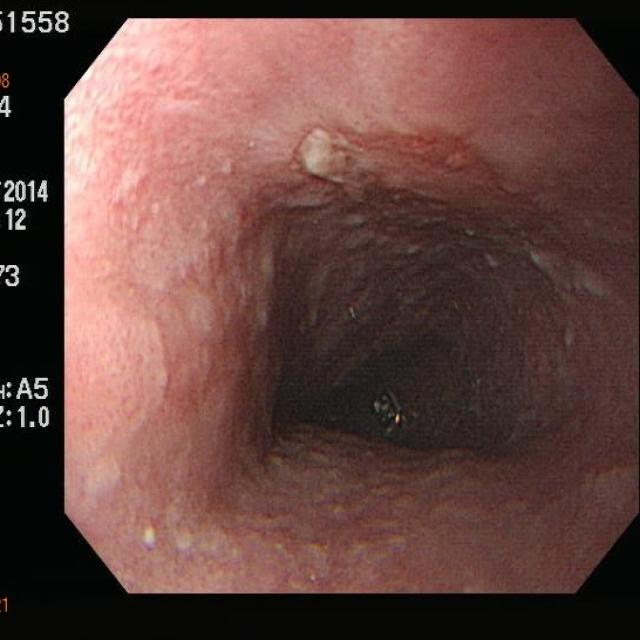A: (405, 122, 470, 169)
E: (293, 317, 462, 452)
J: (293, 128, 338, 186)
S: (3, 375, 52, 434), (3, 8, 72, 38), (3, 180, 52, 205), (4, 208, 31, 234), (2, 70, 14, 121), (2, 264, 22, 292), (3, 597, 11, 616)
